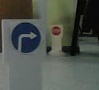right: (11, 22, 42, 54)
